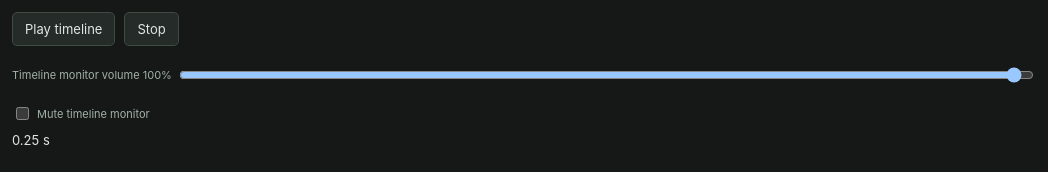
Scenario: schedules trimmed audio, excludes muted tracks and closes the context on unmount
This screenshot has width=1048, height=172.
Click the button "Play timeline" at (64, 29), box [12,12,116,46]
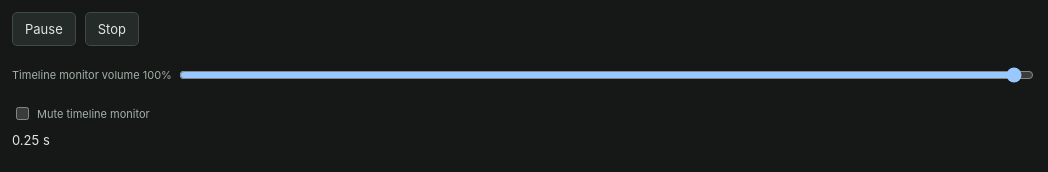
Now the button "Pause" is shown, box [12,12,76,46]
